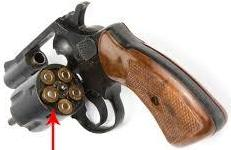gun: (1, 1, 231, 150)
